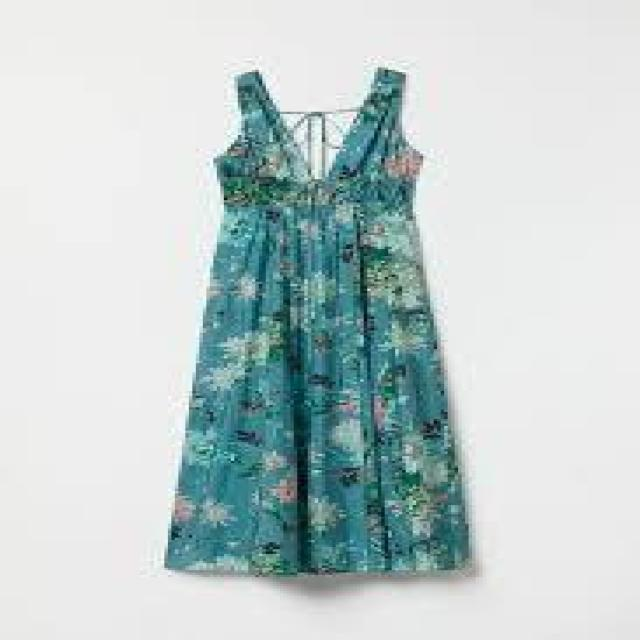dress: (161, 74, 479, 578)
